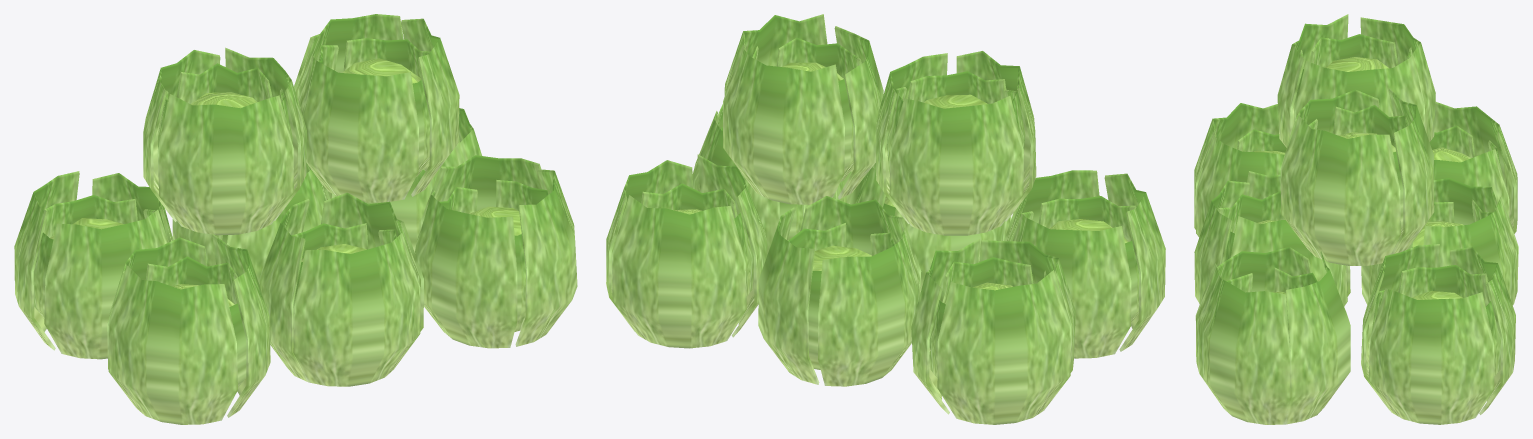
The model's file is vuena-sk-produce-pile-lettuce.glb.
The picture shows the model from 3 angles, left to right: view 1: azimuth 30°, elevation 25°; view 2: azimuth 150°, elevation 25°; view 3: azimuth 270°, elevation 25°; orthographic projection. The views are drawn at different scales.
Parts seen in each view (by area): view 1: sk_produce_pile_lettuce; view 2: sk_produce_pile_lettuce; view 3: sk_produce_pile_lettuce.
Boxes of the visible parts, x1,y1,x2,y2 form: sk_produce_pile_lettuce: (14,14,577,424); sk_produce_pile_lettuce: (606,14,1165,424); sk_produce_pile_lettuce: (1194,14,1518,424).
Bounding box in the file's own units: 0.4356 × 0.2522 × 0.2858.
1 material, 1 textured.
